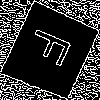F: (25, 25, 82, 72)
